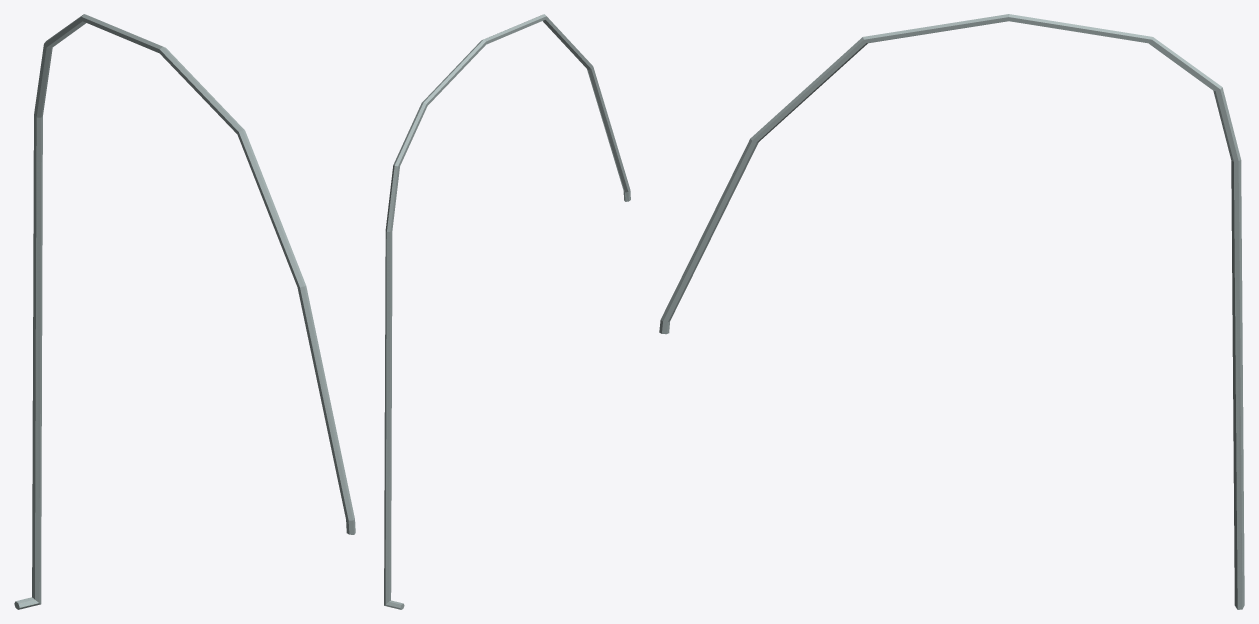
The model's file is xt116-geode.glb.
3 views of the same model, side by side, from view 1: azimuth 30°, elevation 25°; view 2: azimuth 150°, elevation 25°; view 3: azimuth 270°, elevation 25° (orthographic). The views are drawn at different scales.
Parts seen in each view (by area): view 1: Node; view 2: Node; view 3: Node.
Part boxes in pixels (box(x1,y1,x2,y2)): Node: box(14, 14, 355, 609); Node: box(384, 14, 630, 609); Node: box(659, 14, 1244, 609).
Bounding box in the file's own units: 0.0185 × 0.4994 × 0.4457.
1 material, 1 textured.
